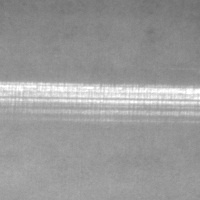scratches: (1, 80, 199, 115)
